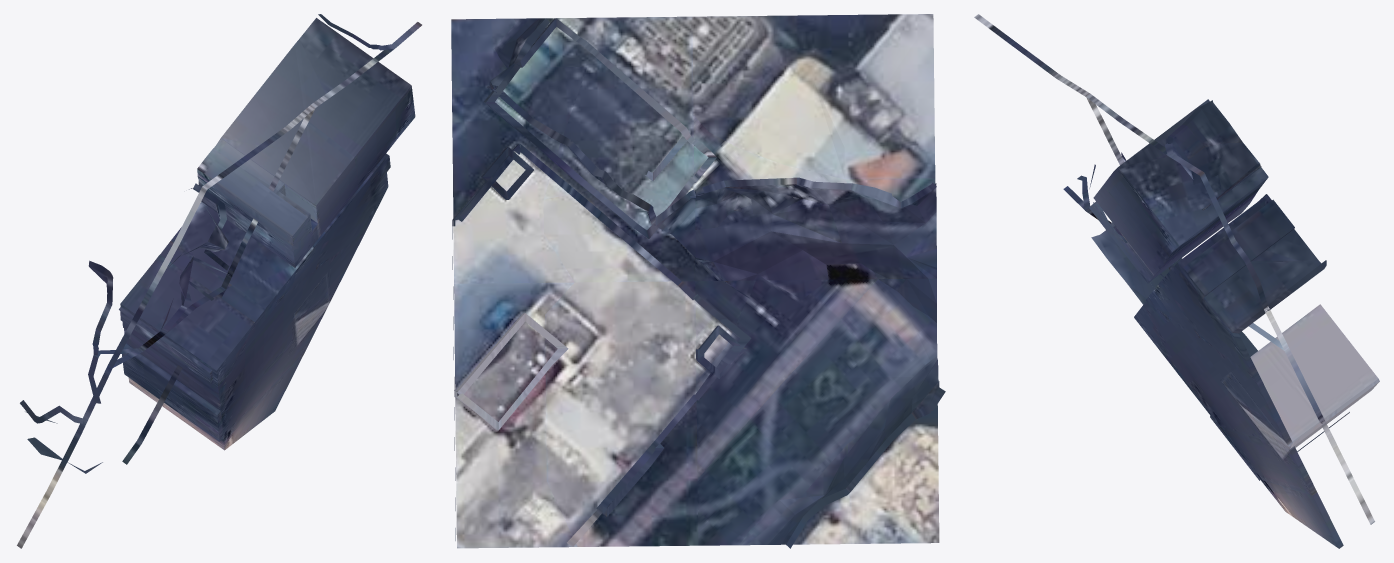
3 renders of one model, left to right at view 1: azimuth 30°, elevation 25°; view 2: azimuth 150°, elevation 25°; view 3: azimuth 270°, elevation 25°, orthographic. The views are drawn at different scales.
Bounding box in the file's own units: 38.76 × 38.47 × 32.29.
1 material, 1 textured.
